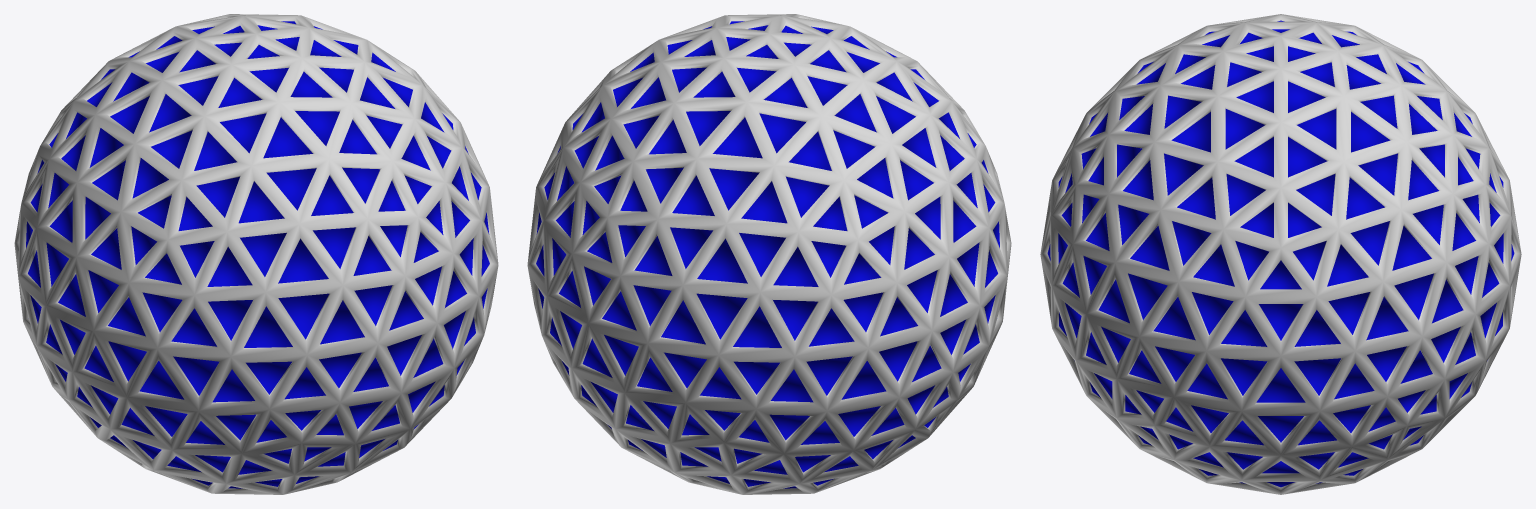
The picture shows the model from 3 angles, left to right: view 1: azimuth 30°, elevation 25°; view 2: azimuth 150°, elevation 25°; view 3: azimuth 270°, elevation 25°; orthographic projection.
Visible parts, largest first — view 1: Icosphere; view 2: Icosphere; view 3: Icosphere.
Boxes of the visible parts, x1=… form: Icosphere: x1=14, y1=14, x2=498, y2=494; Icosphere: x1=527, y1=14, x2=1011, y2=494; Icosphere: x1=1040, y1=14, x2=1521, y2=494.
Size of the model in its own units: 1.29 by 1.29 by 1.29.
